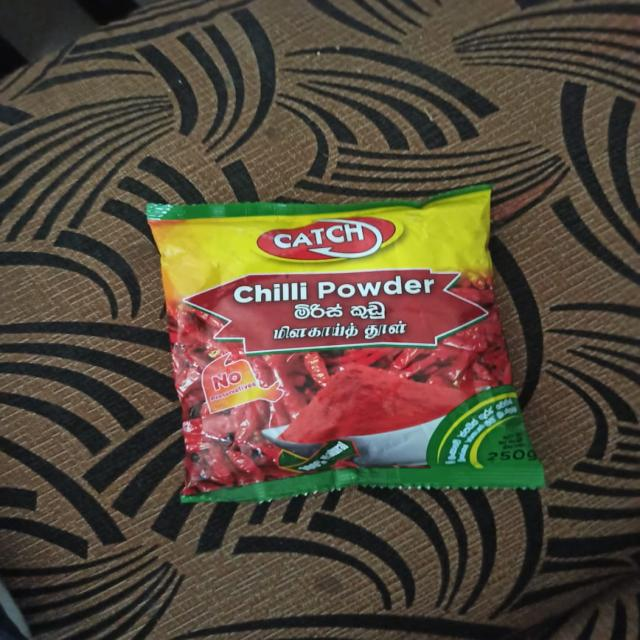Chilli Powder: (124, 186, 586, 520)
